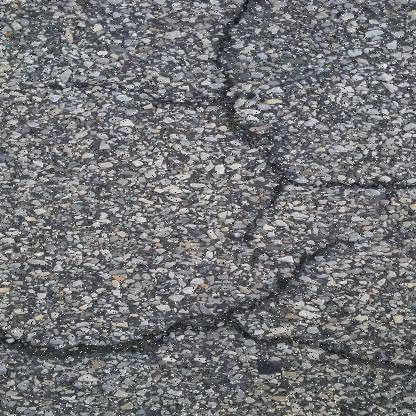Cracks: (128, 0, 416, 259), (0, 237, 416, 375)
